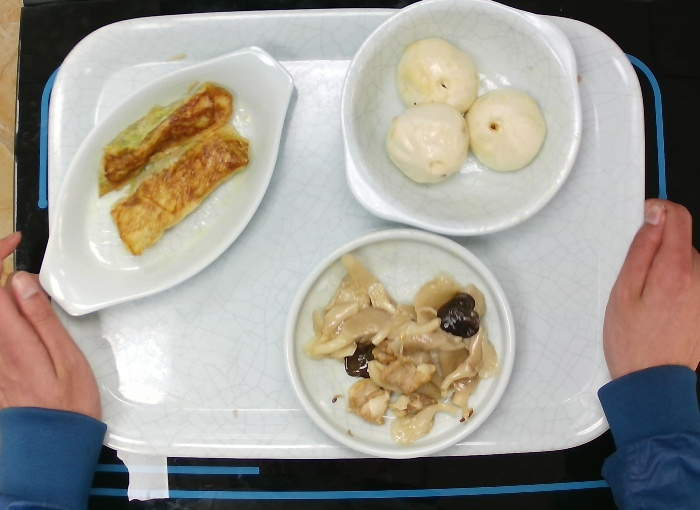JYsf-Shuang_Er_Wan: (338, 1, 586, 239)
JYsf-Xiao_Yuan_Pan: (281, 225, 519, 461)
JYsf-Yu_Pan: (35, 41, 297, 319)
